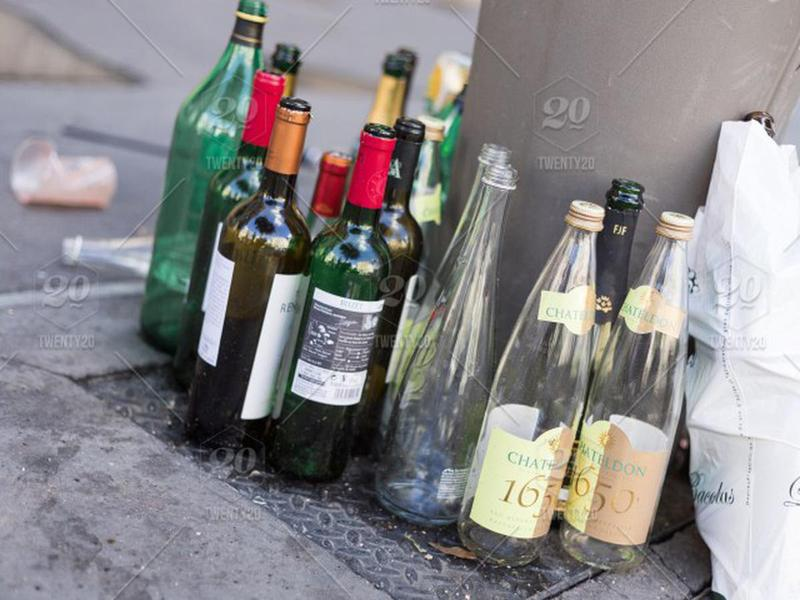bottle: (555, 208, 710, 575), (370, 157, 521, 531), (457, 194, 607, 566), (263, 108, 400, 487), (174, 92, 317, 454), (139, 1, 275, 359)
